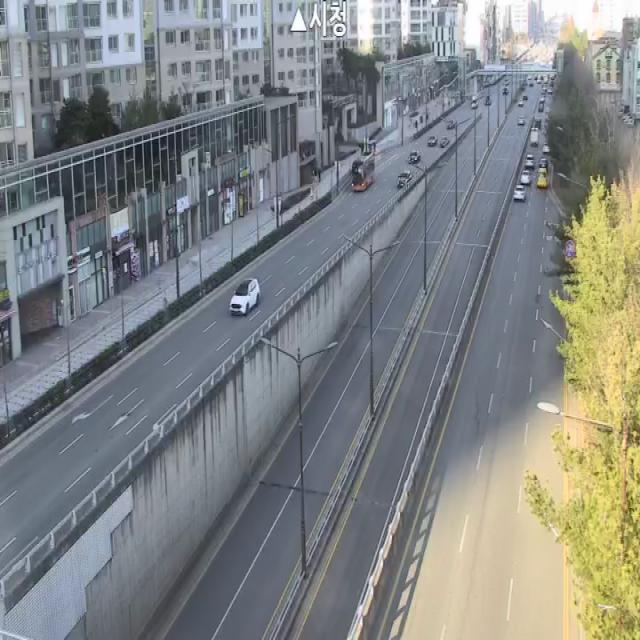Bus: (351, 152, 375, 192)
Car: (228, 278, 260, 316), (397, 170, 411, 189), (536, 168, 548, 188), (513, 185, 526, 201), (408, 150, 421, 164), (520, 170, 531, 185), (524, 154, 534, 170), (539, 158, 548, 173), (427, 134, 438, 146), (440, 136, 450, 148), (542, 143, 550, 153), (517, 116, 525, 125)
Truck: (530, 127, 538, 147)
